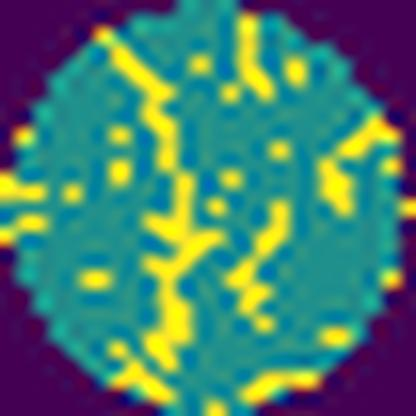Scratch: (92, 28, 228, 378), (215, 196, 300, 338), (312, 117, 402, 225), (215, 11, 279, 112)
